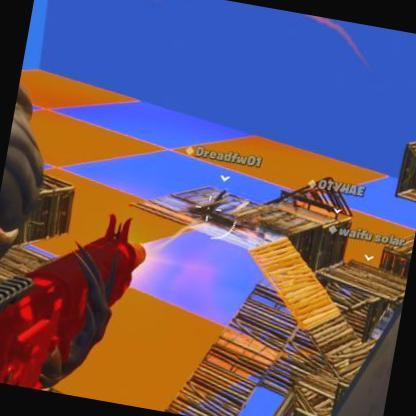person: (214, 182, 225, 212)
